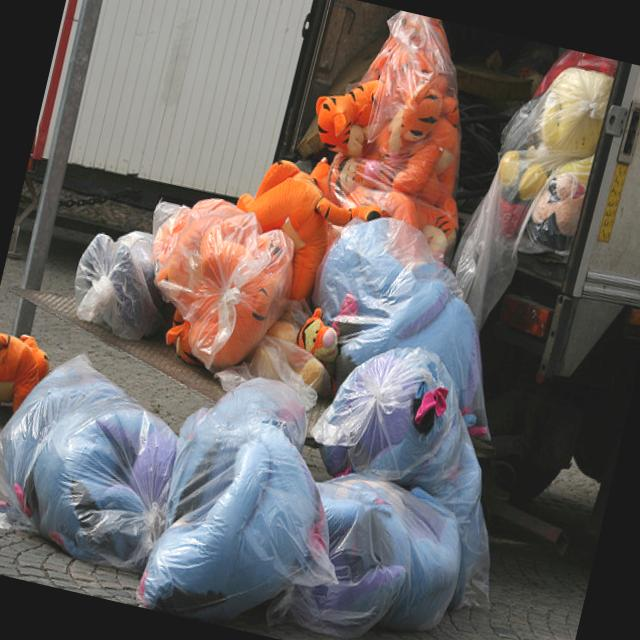Vehicle: (203, 0, 640, 552)
